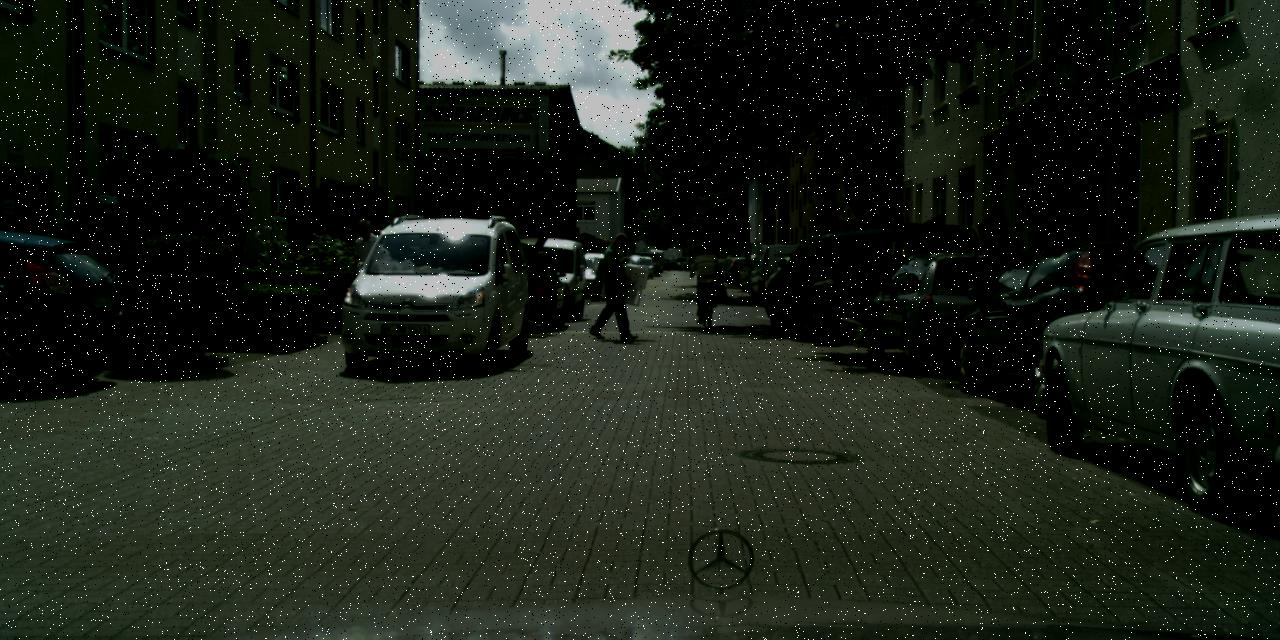ped: (345, 218, 391, 332), (596, 232, 638, 338), (691, 244, 720, 315)
